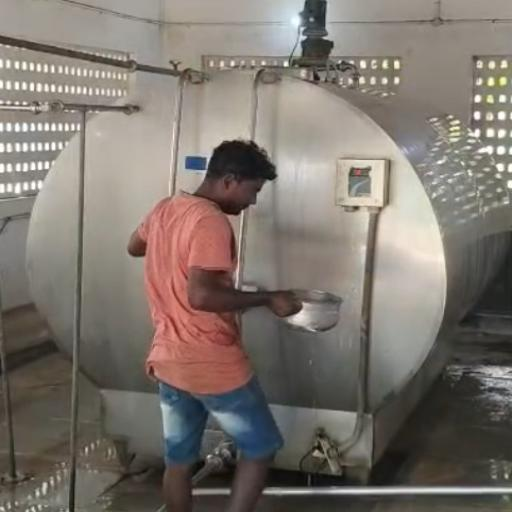silo: (25, 63, 508, 476)
vessel: (279, 288, 344, 333)
